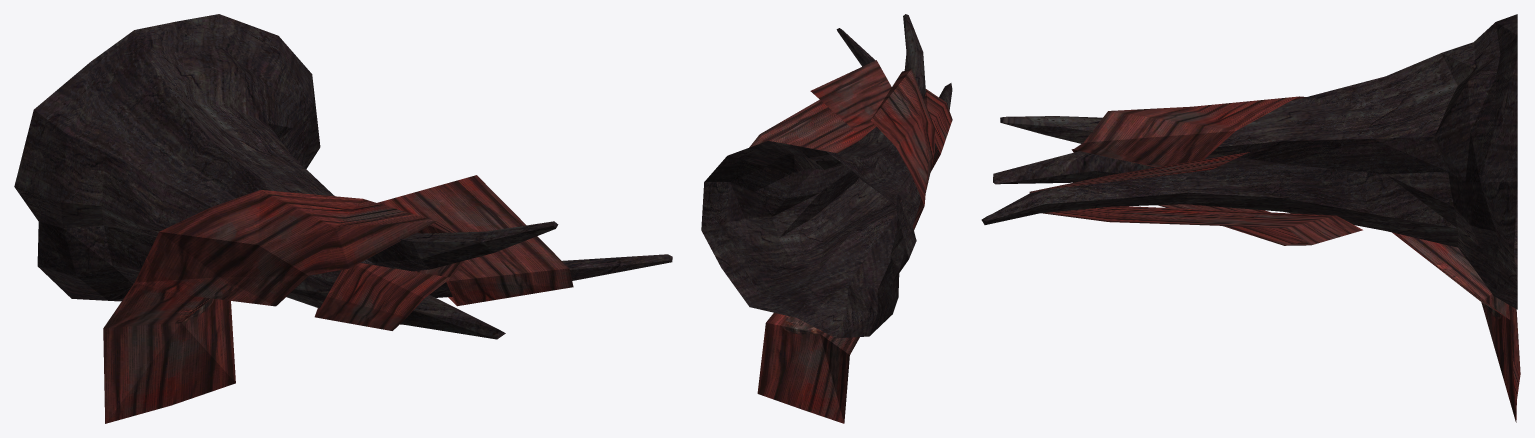
Rendered from aiji16_common_pobu_25.obj.
The picture shows the model from 3 angles, left to right: view 1: azimuth 30°, elevation 25°; view 2: azimuth 150°, elevation 25°; view 3: azimuth 270°, elevation 25°; orthographic projection. The views are drawn at different scales.
Parts seen in each view (by area): view 1: Aiji16_common_pobu_25; view 2: Aiji16_common_pobu_25; view 3: Aiji16_common_pobu_25.
Boxes of the visible parts, left/top/right/bottom form: Aiji16_common_pobu_25: left=14, top=14, right=672, bottom=423; Aiji16_common_pobu_25: left=701, top=14, right=952, bottom=423; Aiji16_common_pobu_25: left=981, top=14, right=1520, bottom=422.
Bounding box in the file's own units: 116 × 112 × 147.
2 materials, 2 textured.
